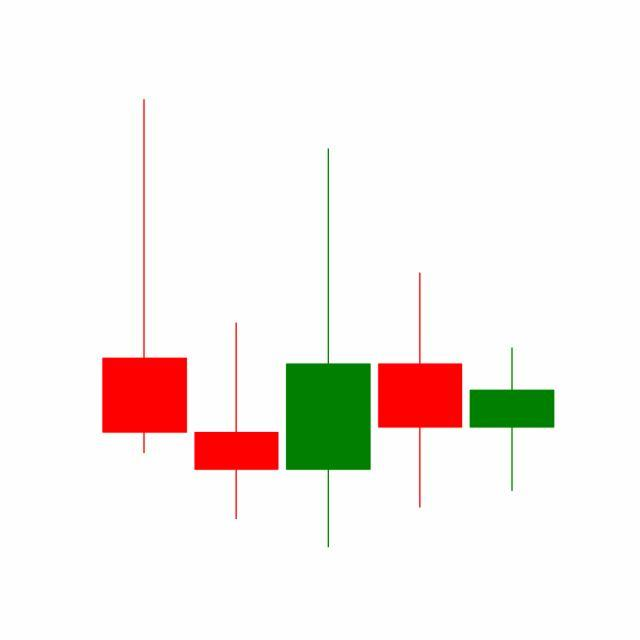Spinning Top: (466, 347, 559, 494)
